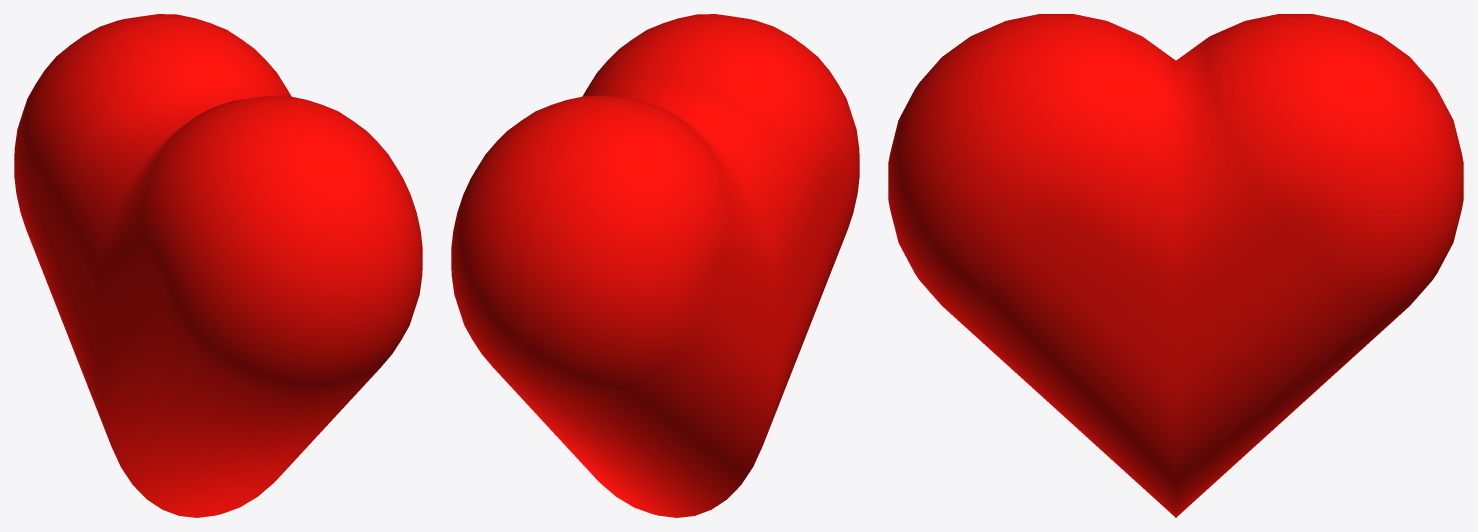
Rendered from Heart.glb.
3 renders of one model, left to right at view 1: azimuth 30°, elevation 25°; view 2: azimuth 150°, elevation 25°; view 3: azimuth 270°, elevation 25°, orthographic. The views are drawn at different scales.
Parts seen in each view (by area): view 1: Heart; view 2: Heart; view 3: Heart.
Boxes of the visible parts, <box> form: Heart: <box>14,14,422,517</box>; Heart: <box>451,14,859,517</box>; Heart: <box>888,14,1463,517</box>.
Size of the model in its own units: 1.76 by 3.12 by 3.4.
